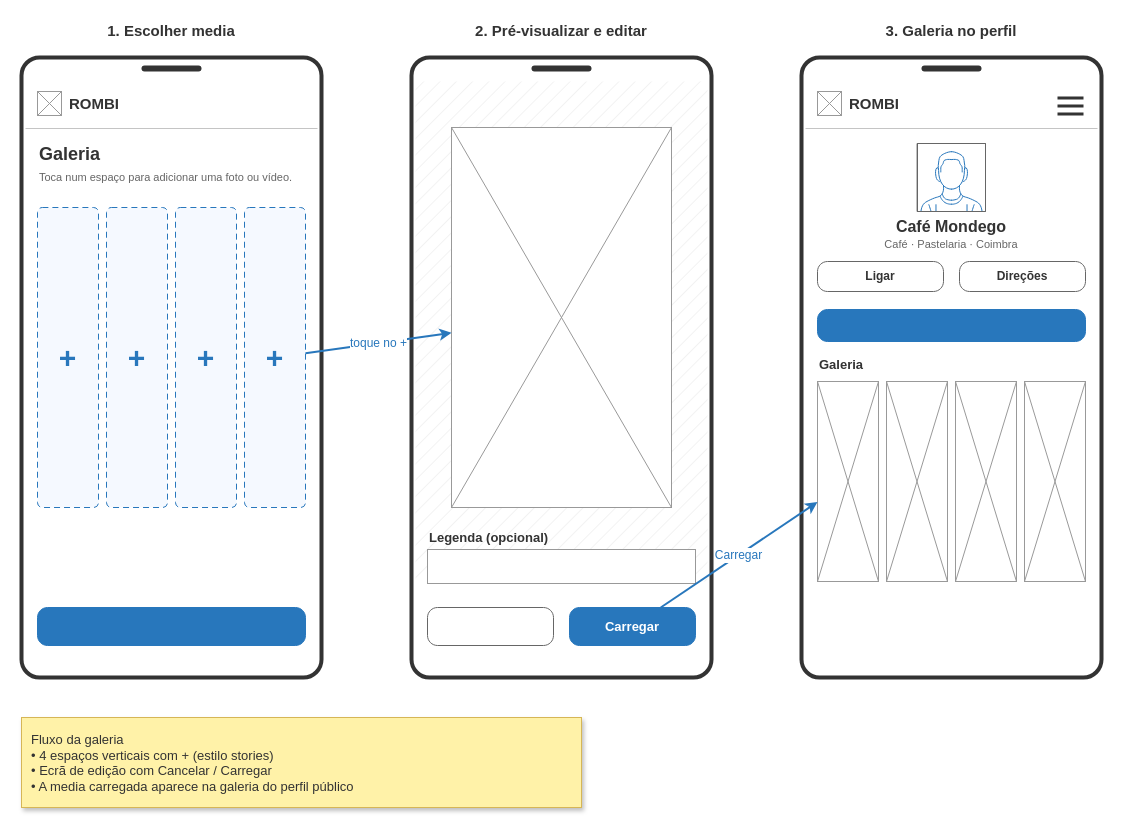
The diagram is 1121 pixels wide and 832 high, and some of its shapes have lost their labels. Each missing label, with the centre of its shape:
"Cancelar" belongs at (490,626).
"Concluir" belongs at (171,626).
"Escreve uma legenda..." belongs at (561,566).
"Guardar Contacto" belongs at (951,325).
